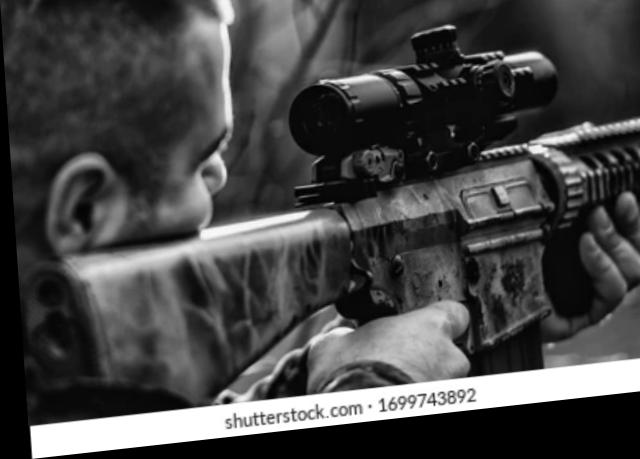other: (1, 0, 307, 418)
